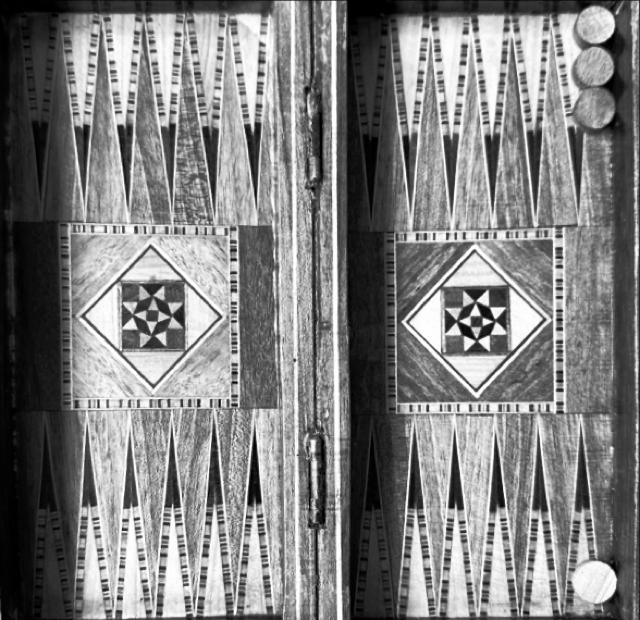bar: (264, 4, 363, 614)
board: (3, 0, 629, 620)
dark_p: (572, 2, 621, 50), (572, 83, 620, 132), (572, 42, 622, 89)
light_p: (571, 557, 623, 608)
